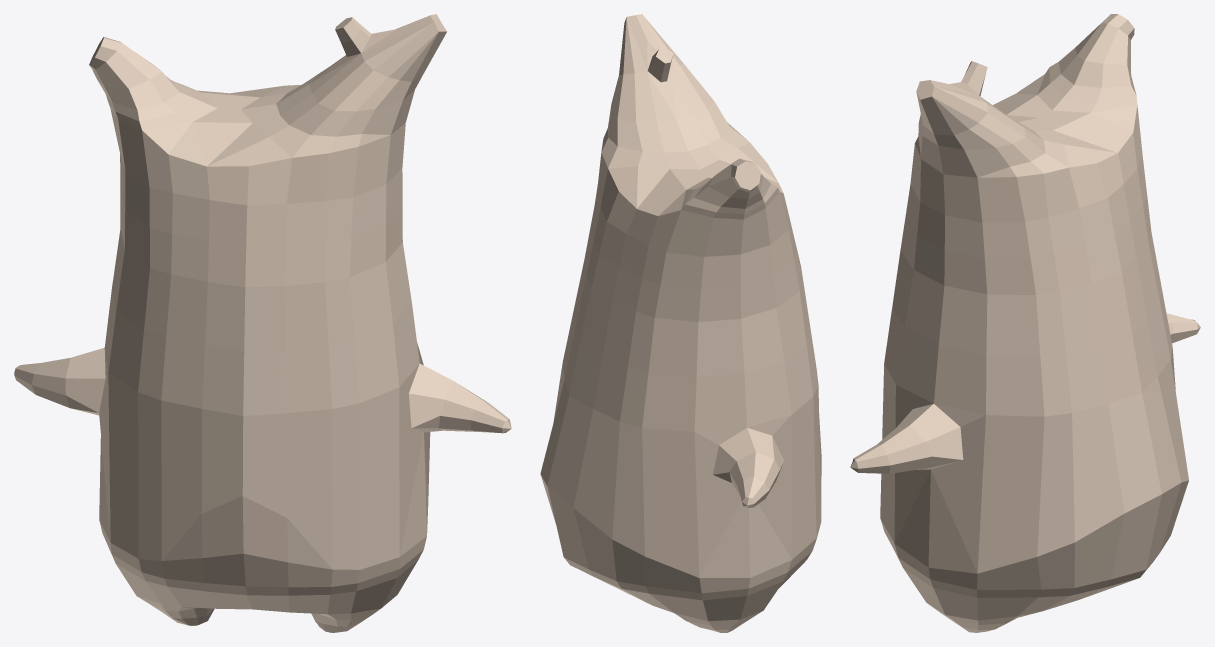
The model's file is frame_0080.obj.
The picture shows the model from 3 angles, left to right: view 1: azimuth 30°, elevation 25°; view 2: azimuth 150°, elevation 25°; view 3: azimuth 270°, elevation 25°; orthographic projection. The views are drawn at different scales.
Visible parts, largest first — view 1: korok; view 2: korok; view 3: korok.
Boxes of the visible parts, x1=… form: korok: x1=14, y1=14, x2=511, y2=632; korok: x1=540, y1=14, x2=821, y2=632; korok: x1=850, y1=14, x2=1200, y2=632.
Size of the model in its own units: 1.17 by 2.16 by 1.18.
